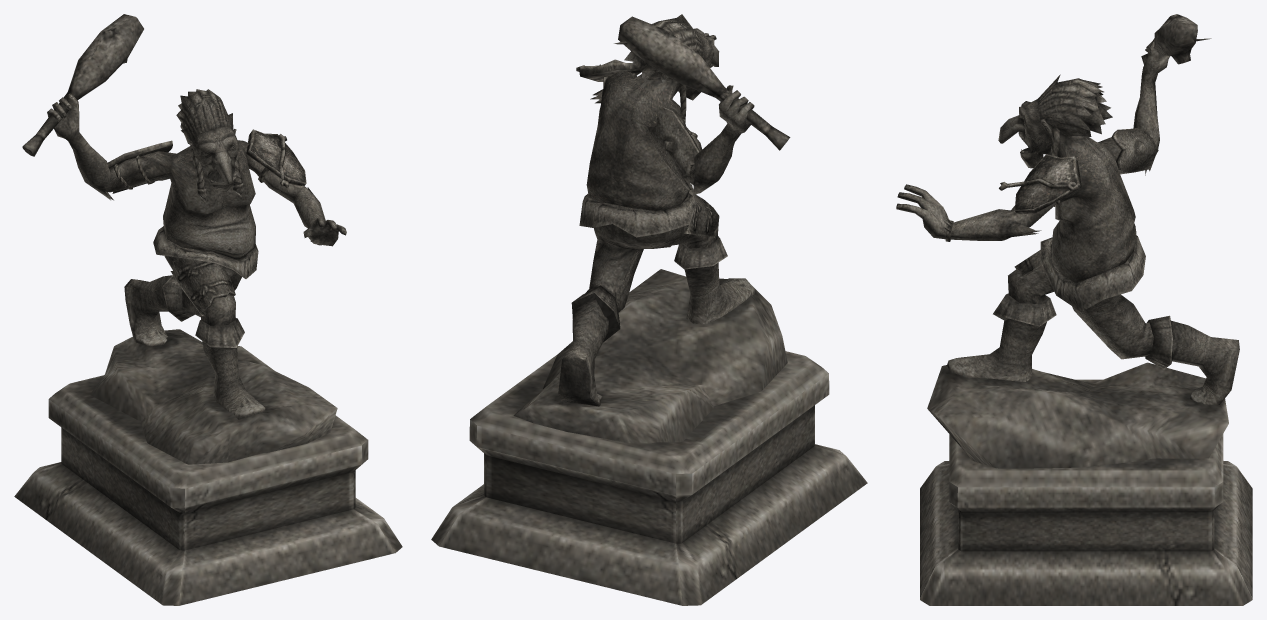
Rendered from trollStatue.dae.
3 views of the same model, side by side, from view 1: azimuth 30°, elevation 25°; view 2: azimuth 150°, elevation 25°; view 3: azimuth 270°, elevation 25° (orthographic). The views are drawn at different scales.
Parts seen in each view (by area): view 1: Reduced_Troll_statue; view 2: Reduced_Troll_statue; view 3: Reduced_Troll_statue.
Part boxes in pixels (left/top/right/bottom): Reduced_Troll_statue: left=14, top=14, right=402, bottom=605; Reduced_Troll_statue: left=431, top=14, right=867, bottom=605; Reduced_Troll_statue: left=896, top=14, right=1252, bottom=605.
Bounding box in the file's own units: 2.62 × 4.37 × 2.79.
1 material, 1 textured.
